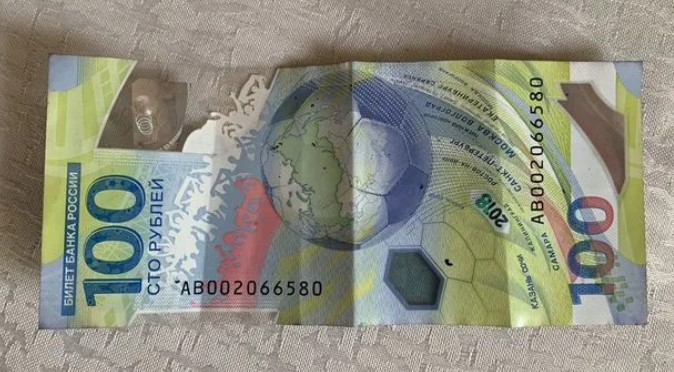cash: (38, 53, 647, 329)
